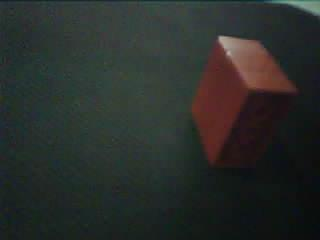lego: (187, 33, 298, 166)
